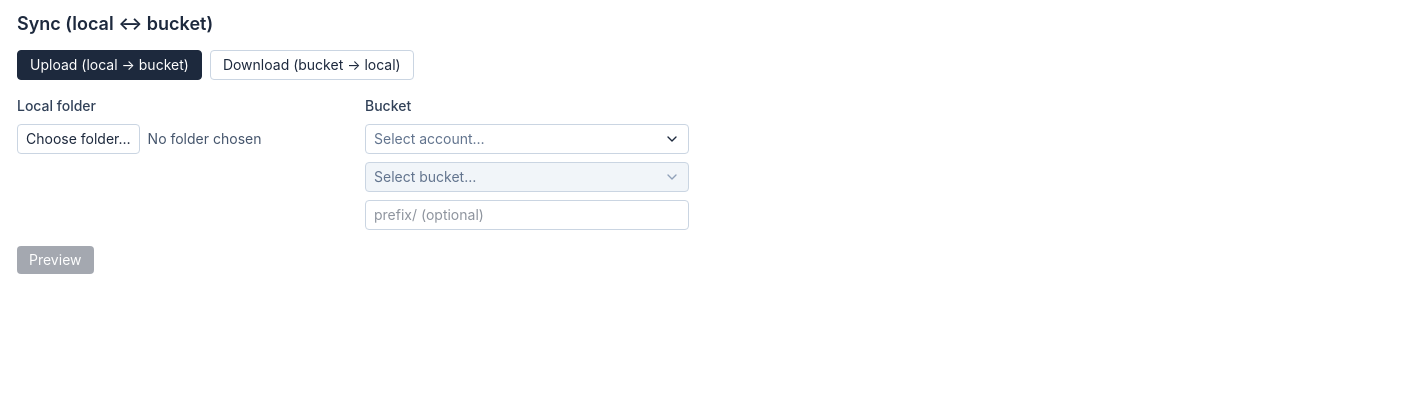
Test case: LocalSyncScreen › an empty plan disables Run sync
Click the button "Choose folder…" at (78, 139), box [17,124,140,154]
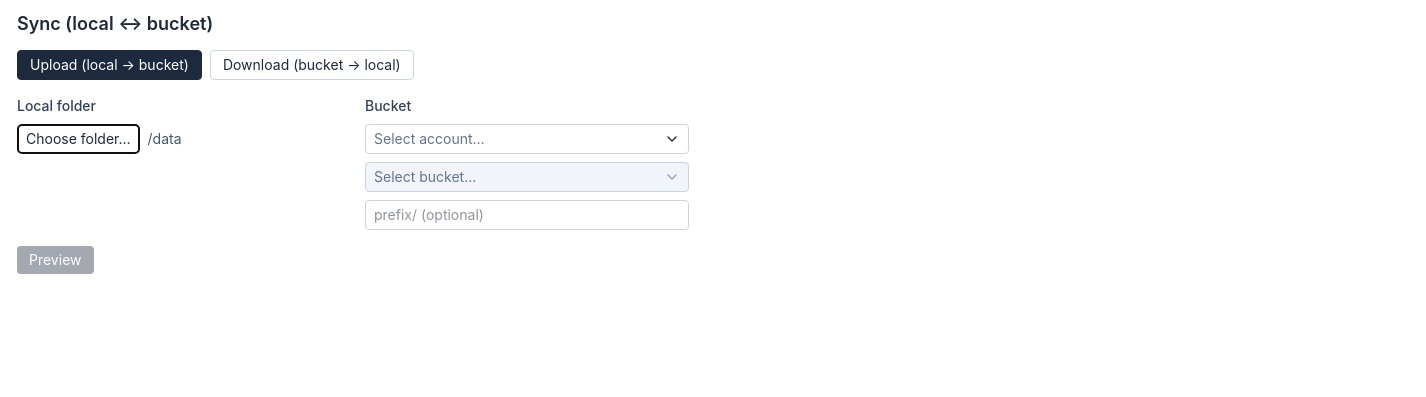
expect the text "/data" is shown: met, box [148,129,182,149]
Click the dropdown named "Bucket account" at (429, 138), box [365,124,689,154]
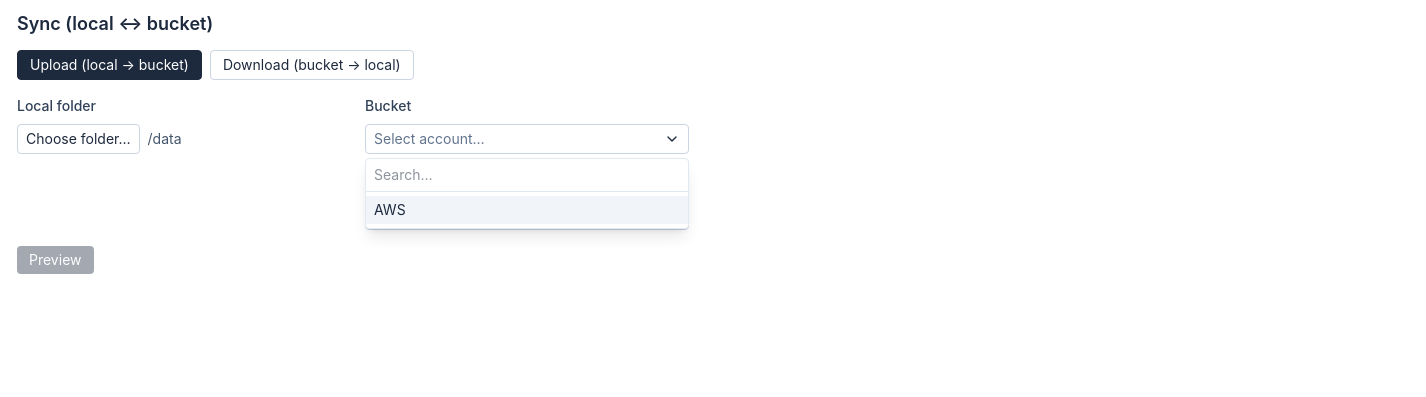
Click the option "AWS" at (390, 210), box [366,196,688,224]
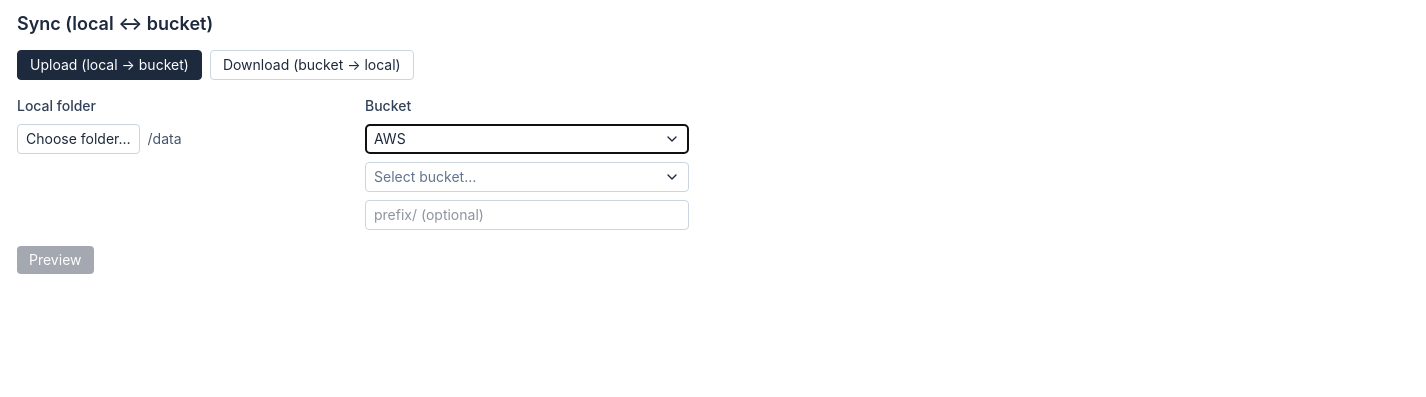
Click the dropdown named "Bucket bucket" at (425, 176), box [365,162,689,192]
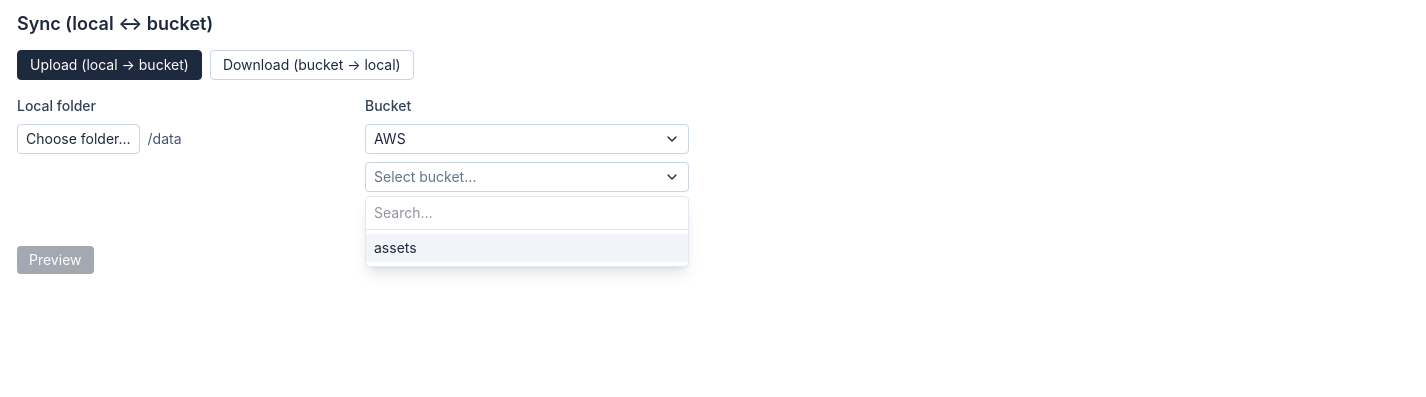
Click the option "assets" at (395, 248), box [366,234,688,262]
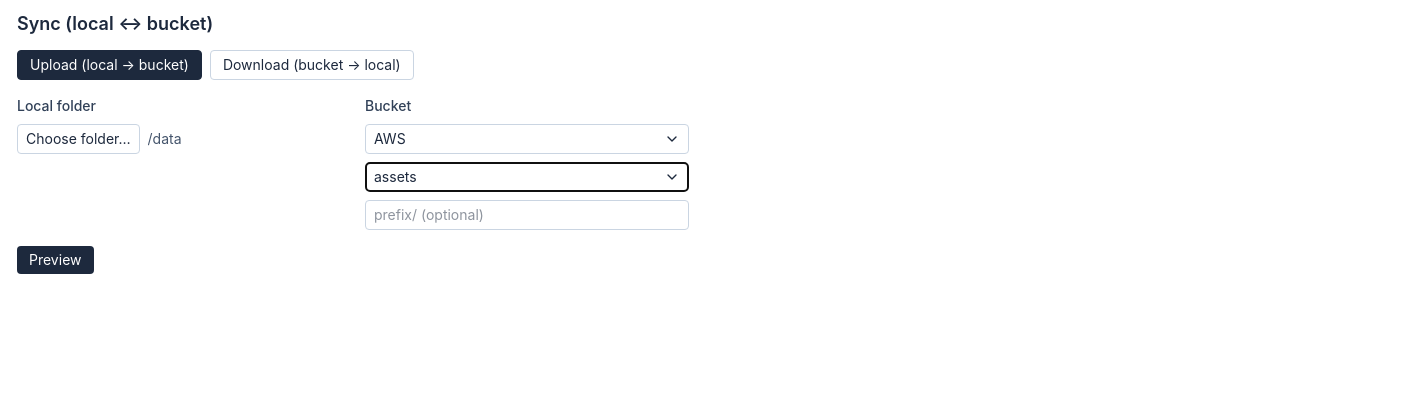
Click the button "Preview" at (55, 260), box [17,246,94,274]
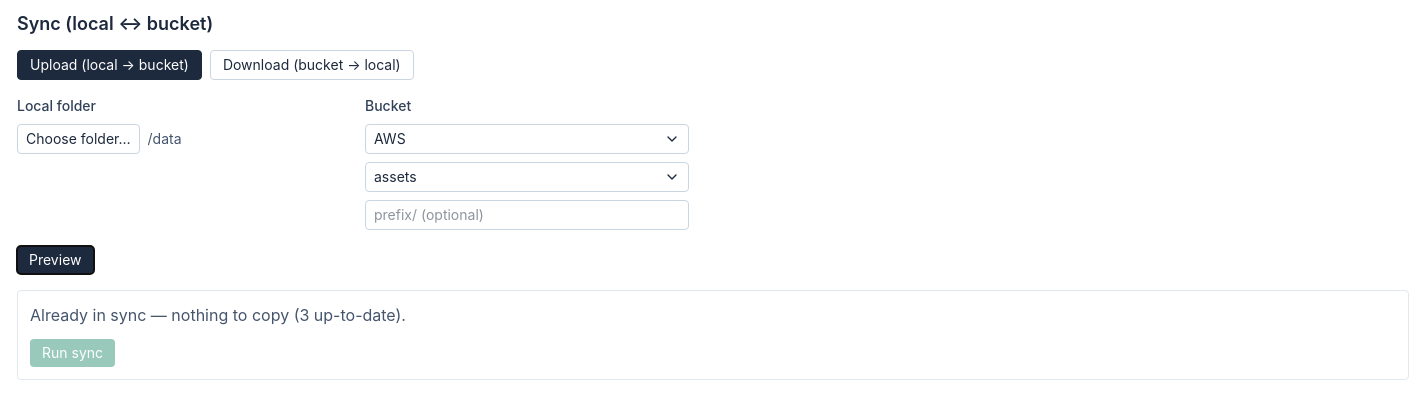
expect the text "Already in sync — nothing to copy (3 up-to-date)." is shown: met, box [30,305,406,325]
expect the button "Run sync" is disabled: met, box [30,339,115,367]
